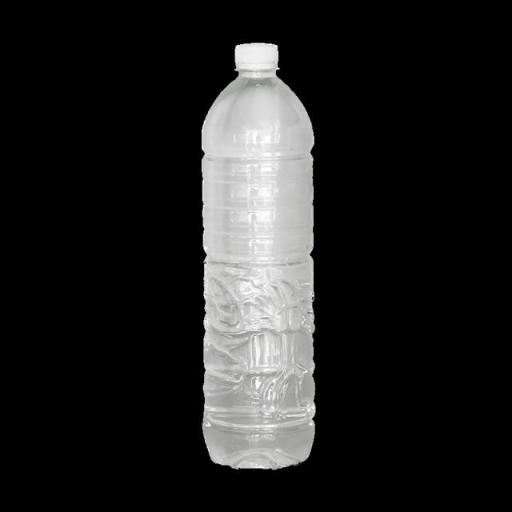plastic: (200, 40, 321, 476)
